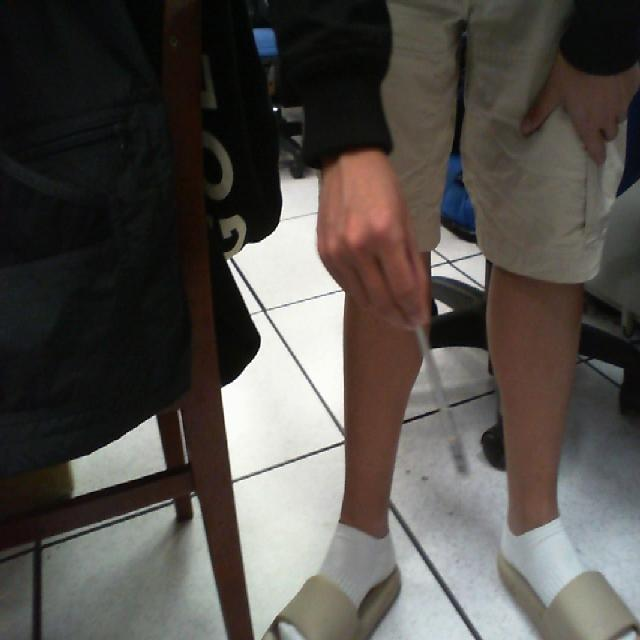Pen: (406, 313, 488, 501)
